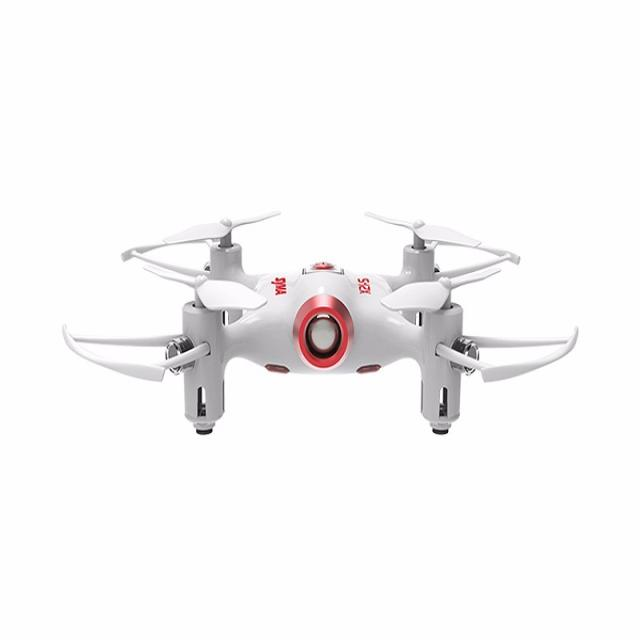drone: (72, 209, 592, 442)
